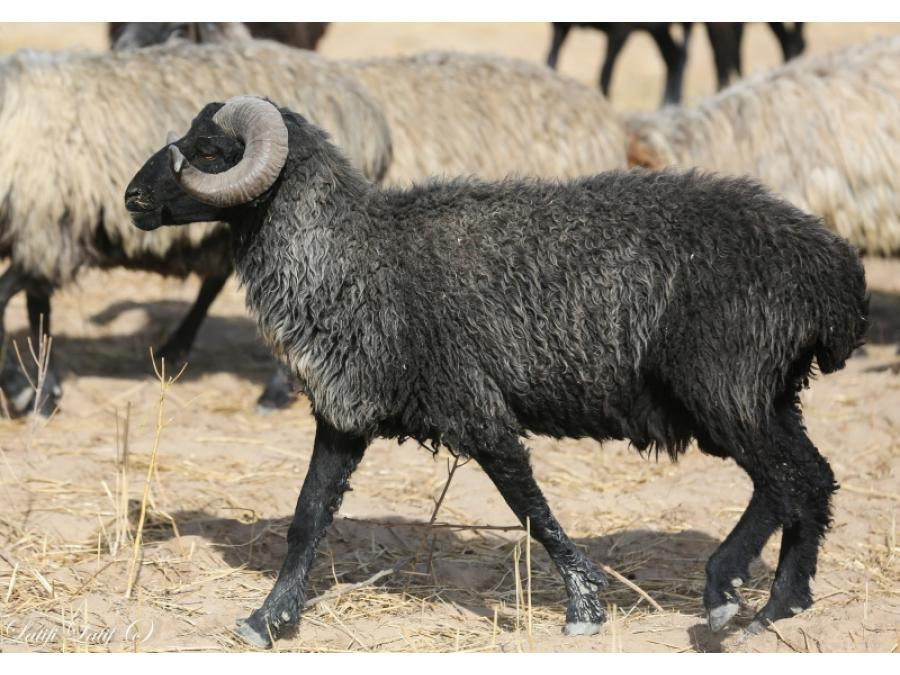sheep: (106, 80, 867, 653)
